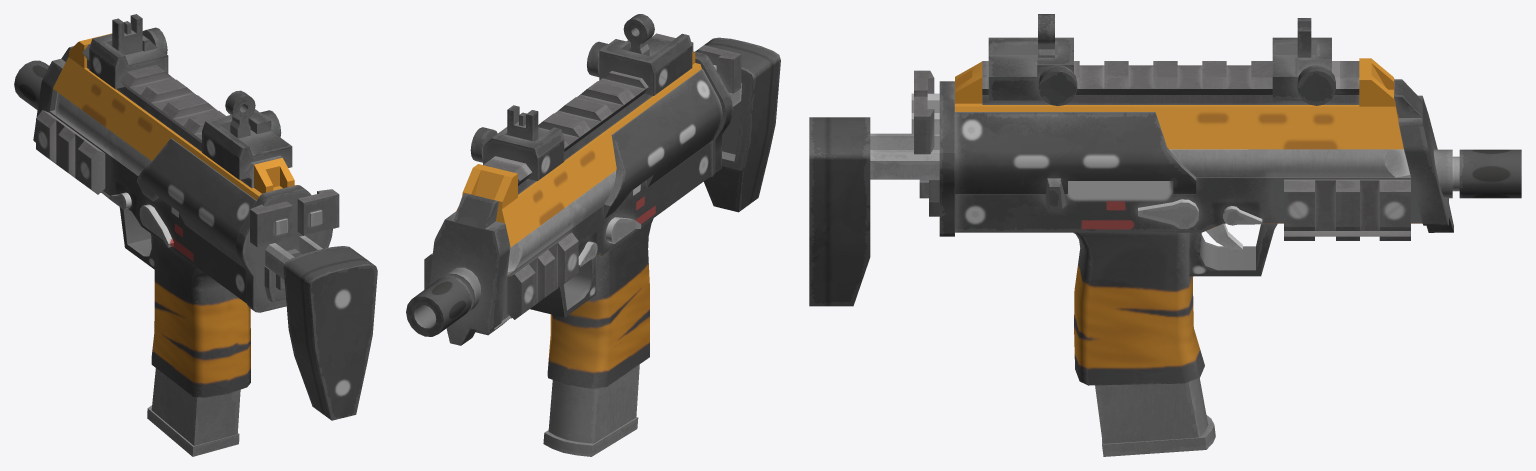
Rendered from IG_Gun_Mp7_Electric.fbx.
3 views of the same model, side by side, from view 1: azimuth 30°, elevation 25°; view 2: azimuth 150°, elevation 25°; view 3: azimuth 270°, elevation 25° (orthographic). The views are drawn at different scales.
Parts seen in each view (by area): view 1: WPN_MP7, HideIf_Stock, HideIf_Scope, HideIf_Muzzle; view 2: WPN_MP7, HideIf_Stock, HideIf_Scope, HideIf_Muzzle; view 3: WPN_MP7, HideIf_Stock, HideIf_Scope, HideIf_Muzzle.
Part boxes in pixels (bbox=[...]): WPN_MP7: bbox=[33, 33, 332, 456]; HideIf_Stock: bbox=[250, 189, 377, 420]; HideIf_Scope: bbox=[89, 14, 292, 179]; HideIf_Muzzle: bbox=[14, 60, 48, 109]; WPN_MP7: bbox=[424, 51, 733, 456]; HideIf_Stock: bbox=[652, 33, 780, 212]; HideIf_Scope: bbox=[470, 14, 692, 181]; HideIf_Muzzle: bbox=[406, 276, 471, 336]; WPN_MP7: bbox=[939, 58, 1459, 456]; HideIf_Stock: bbox=[809, 70, 939, 306]; HideIf_Scope: bbox=[988, 14, 1335, 106]; HideIf_Muzzle: bbox=[1459, 149, 1521, 198].
Bounding box in the file's own units: 0.1169 × 0.4458 × 0.6694.
